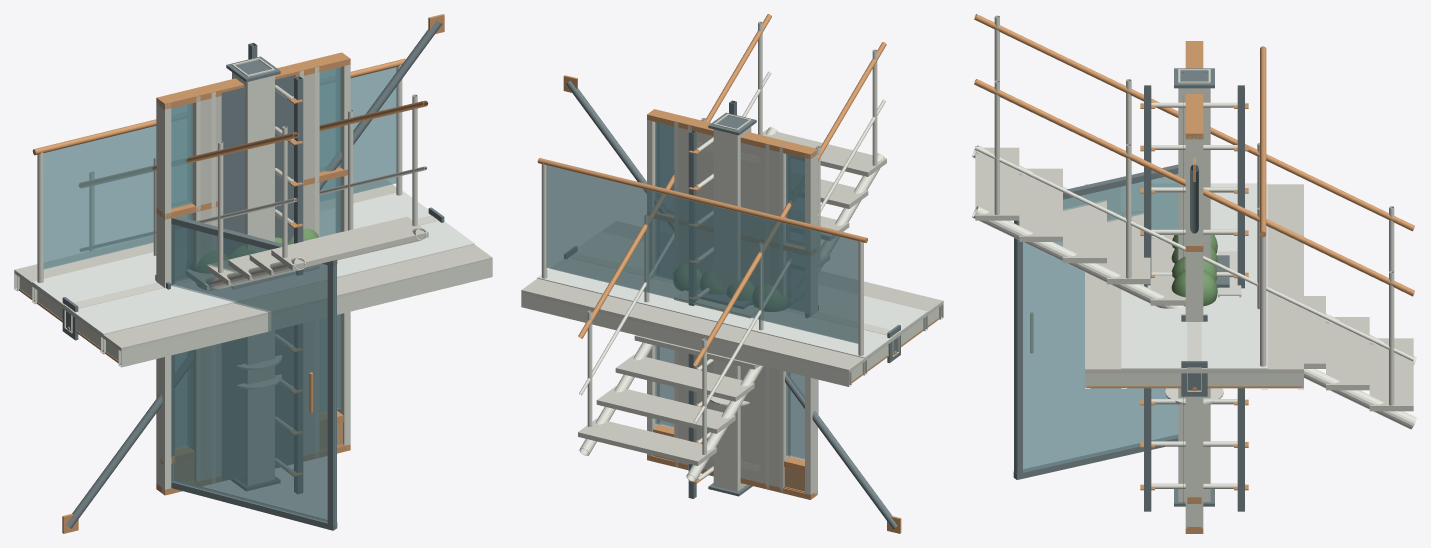
The model's file is construction-kit.glb.
3 renders of one model, left to right at view 1: azimuth 30°, elevation 25°; view 2: azimuth 150°, elevation 25°; view 3: azimuth 270°, elevation 25°, orthographic. The views are drawn at different scales.
Parts seen in each view (by area): view 1: entry_door_leaf, terrace_guard, weather_membrane, service_backplane, landing_walking_skin, kit_column__PaleFrame, insulated_glazing, kit_entry__PaleFrame, kit_landing__PaleFrame, kit_core__Floor, kit_stair__PaleFrame, entry_door_hinge__Steel (+19 smaller); view 2: terrace_guard, kit_stair__Floor, kit_core__Floor, weather_membrane, landing_walking_skin, kit_stair__PaleFrame, kit_column__PaleFrame, insulated_glazing, kit_landing__PaleFrame, kit_entry__PaleFrame, kit_stair__Copper, kit_core_half__Floor (+13 smaller); view 3: entry_door_leaf, kit_stair__Floor, weather_membrane, landing_walking_skin, kit_stair__PaleFrame, kit_column__PaleFrame, kit_column__Steel, kit_stair__Copper, kit_entry__PaleFrame, entry_door_hinge__Steel, kit_landing__PaleFrame, kit_facade__PaleFrame (+11 smaller).
Part boxes in pixels (bbox=[...]): entry_door_leaf: bbox=[171, 224, 336, 527]; terrace_guard: bbox=[43, 67, 397, 269]; weather_membrane: bbox=[32, 191, 474, 334]; service_backplane: bbox=[221, 74, 295, 480]; landing_walking_skin: bbox=[14, 180, 492, 351]; kit_column__PaleFrame: bbox=[232, 58, 294, 485]; insulated_glazing: bbox=[171, 67, 340, 448]; kit_entry__PaleFrame: bbox=[156, 64, 350, 489]; kit_landing__PaleFrame: bbox=[14, 259, 492, 367]; kit_core__Floor: bbox=[187, 72, 319, 481]; kit_stair__PaleFrame: bbox=[80, 94, 427, 290]; entry_door_hinge__Steel: bbox=[171, 216, 337, 530]; terrace_guard: bbox=[546, 165, 858, 343]; kit_stair__Floor: bbox=[578, 129, 886, 465]; kit_core__Floor: bbox=[678, 127, 790, 488]; weather_membrane: bbox=[537, 232, 927, 358]; landing_walking_skin: bbox=[521, 221, 943, 372]; kit_stair__PaleFrame: bbox=[579, 21, 885, 481]; kit_column__PaleFrame: bbox=[695, 114, 751, 491]; insulated_glazing: bbox=[655, 122, 804, 459]; kit_landing__PaleFrame: bbox=[521, 293, 943, 386]; kit_entry__PaleFrame: bbox=[647, 120, 817, 494]; kit_stair__Copper: bbox=[578, 14, 886, 366]; kit_core_half__Floor: bbox=[696, 132, 769, 484]; entry_door_leaf: bbox=[1014, 174, 1178, 472]; kit_stair__Floor: bbox=[975, 147, 1413, 411]; weather_membrane: bbox=[1121, 183, 1267, 369]; landing_walking_skin: bbox=[1085, 184, 1303, 373]; kit_stair__PaleFrame: bbox=[972, 15, 1416, 429]; kit_column__PaleFrame: bbox=[1151, 69, 1237, 501]; kit_column__Steel: bbox=[1144, 68, 1244, 511]; kit_stair__Copper: bbox=[974, 14, 1414, 295]; kit_entry__PaleFrame: bbox=[1185, 134, 1203, 528]; entry_door_hinge__Steel: bbox=[1013, 164, 1178, 479]; kit_landing__PaleFrame: bbox=[1085, 370, 1303, 389]; kit_facade__PaleFrame: bbox=[1187, 136, 1201, 526].
Bounding box in the file's own units: 3.08 × 3.46 × 3.04.
